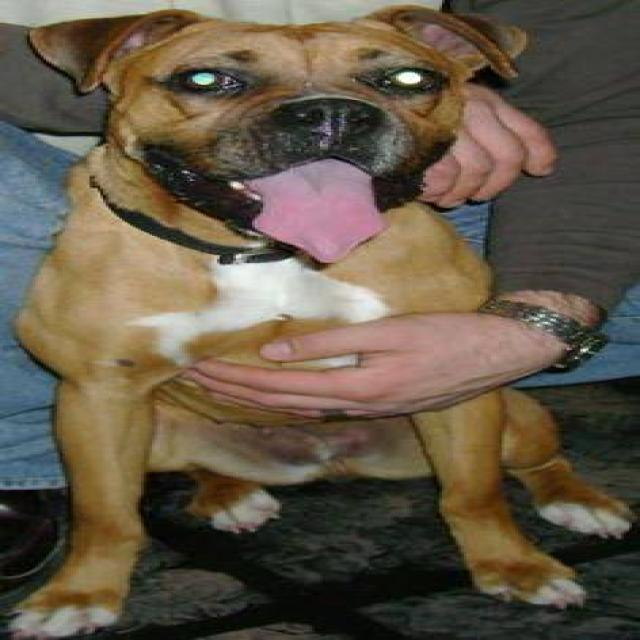Dog: (3, 7, 540, 272)
